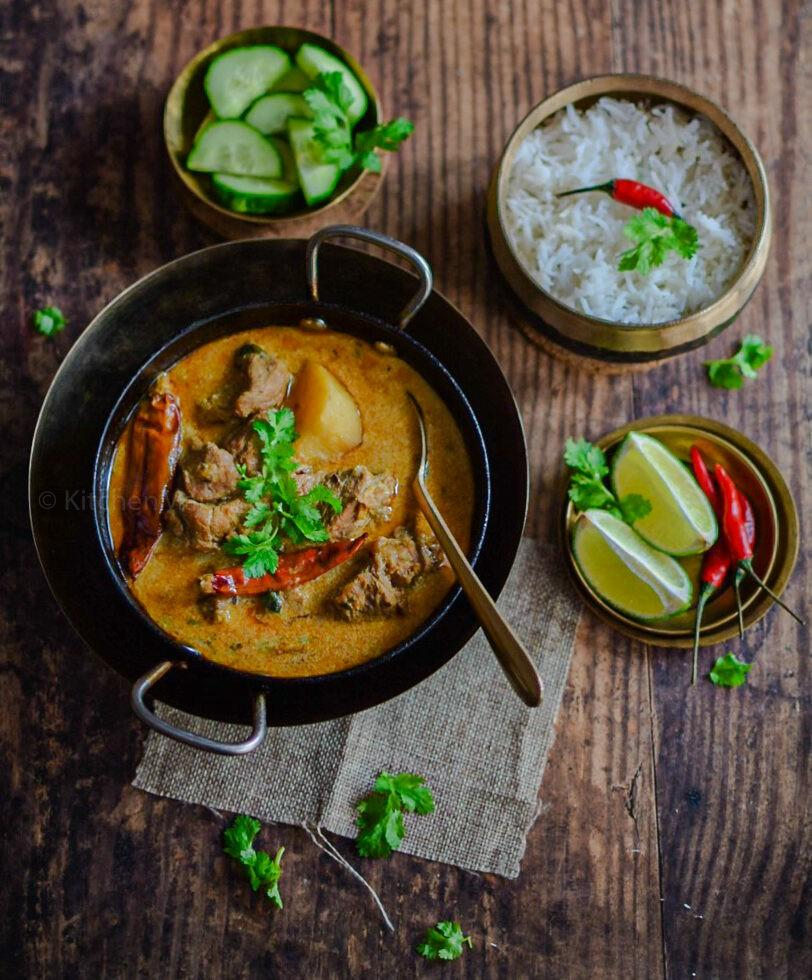MuttonCurry: (107, 320, 471, 670)
WhiteRice: (511, 97, 756, 324)
